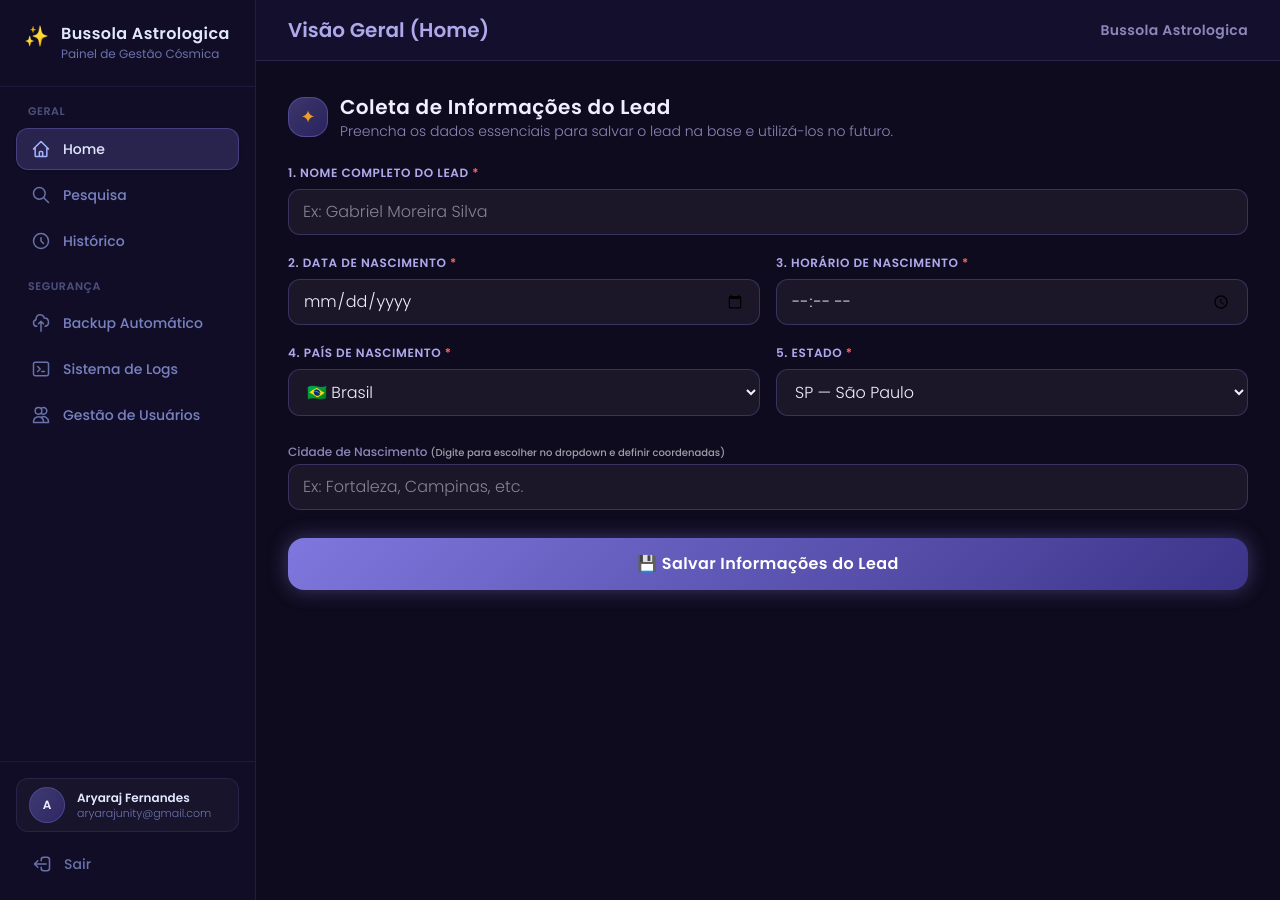
Scenario: AdminLayout Navegação e Painel › permite navegar para a aba Pesquisa ao clicar no botão da barra lateral
Click the button "Pesquisa": point(128, 194) [16,174,239,216]
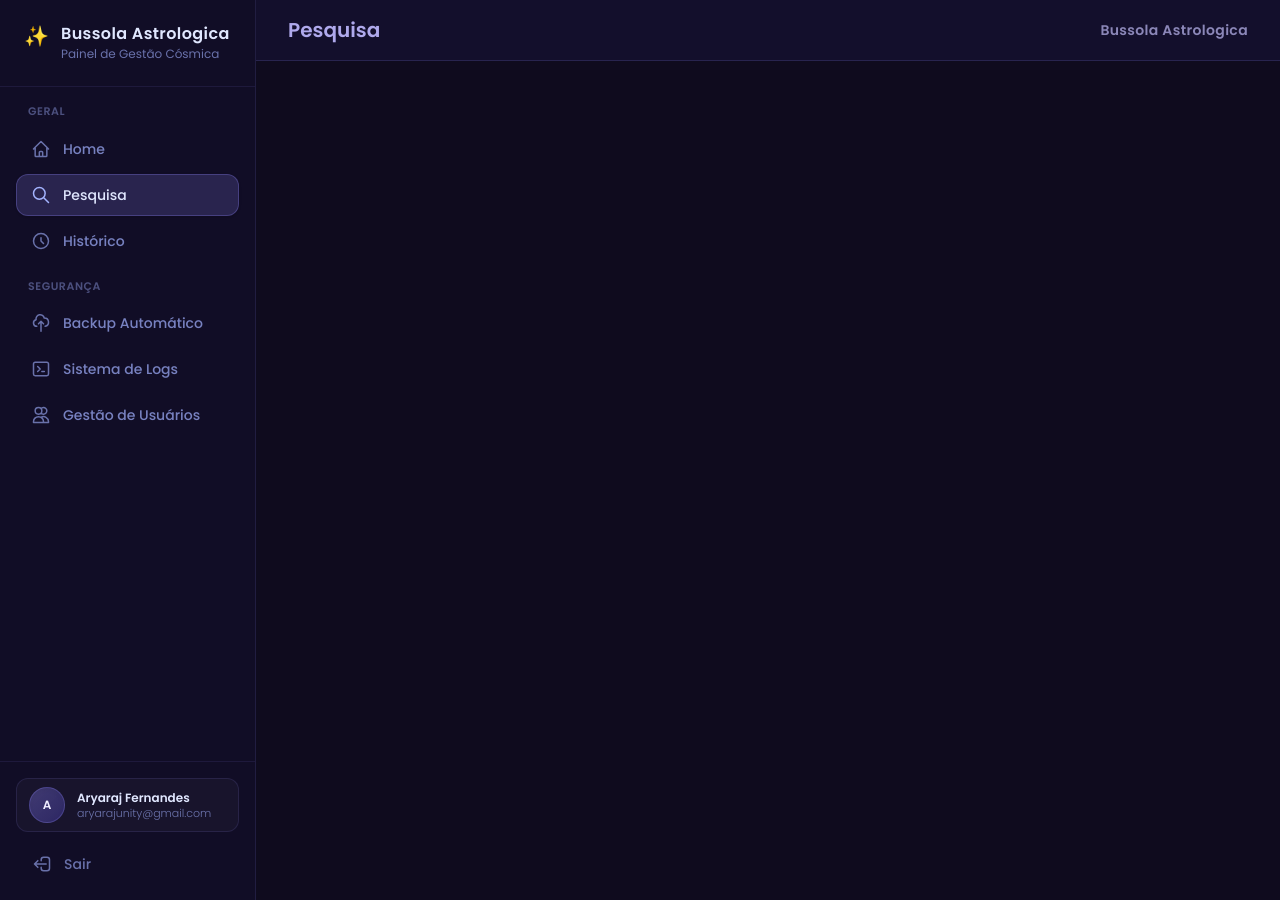
Expected: the heading "Pesquisa" is shown, [288,16,380,44]
